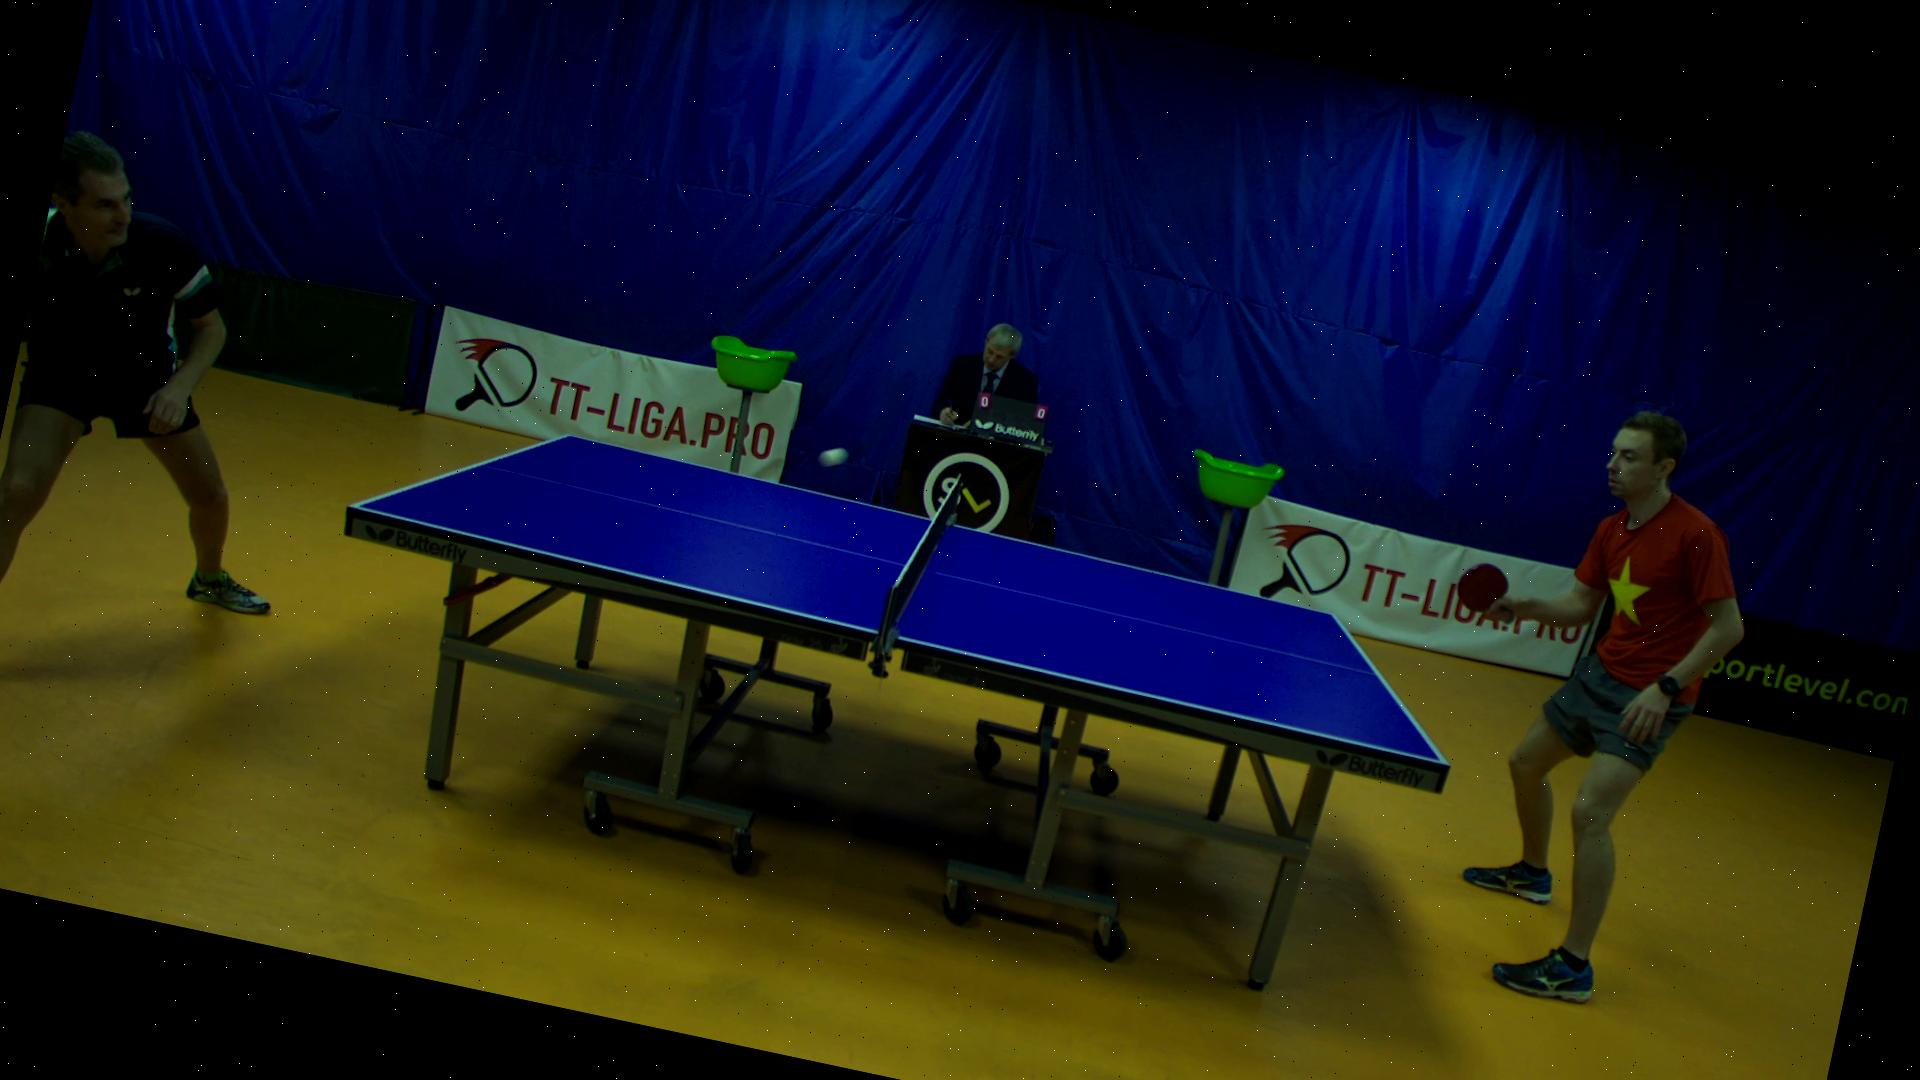ball: (814, 436, 855, 475)
